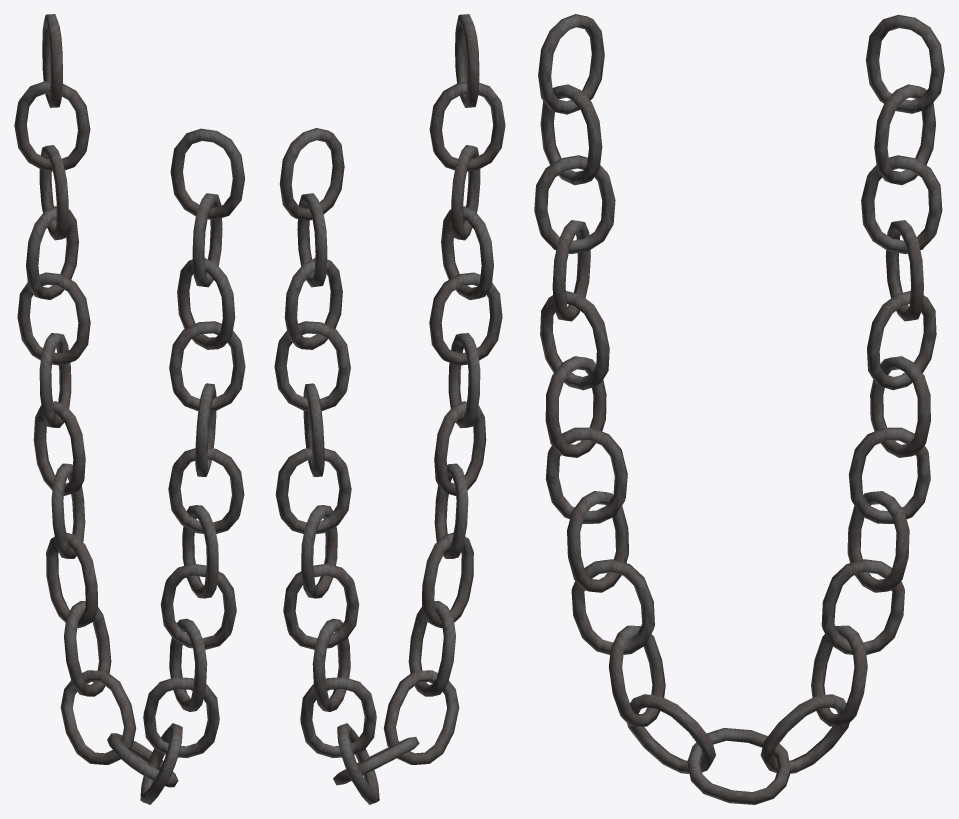
Rendered from Prop_ChainHanging2.fbx.
3 renders of one model, left to right at view 1: azimuth 30°, elevation 25°; view 2: azimuth 150°, elevation 25°; view 3: azimuth 270°, elevation 25°, orthographic. The views are drawn at different scales.
Parts seen in each view (by area): view 1: CDTMesh_ChainHanging2; view 2: CDTMesh_ChainHanging2; view 3: CDTMesh_ChainHanging2.
Boxes of the visible parts, x1,y1,x2,y2 form: CDTMesh_ChainHanging2: (14,14,245,804); CDTMesh_ChainHanging2: (274,14,505,804); CDTMesh_ChainHanging2: (534,14,944,804).
Size of what is drawn, in the model's own units: 0.3061 by 2.73 by 1.33.
Materials: 1 (1 with a texture image).
